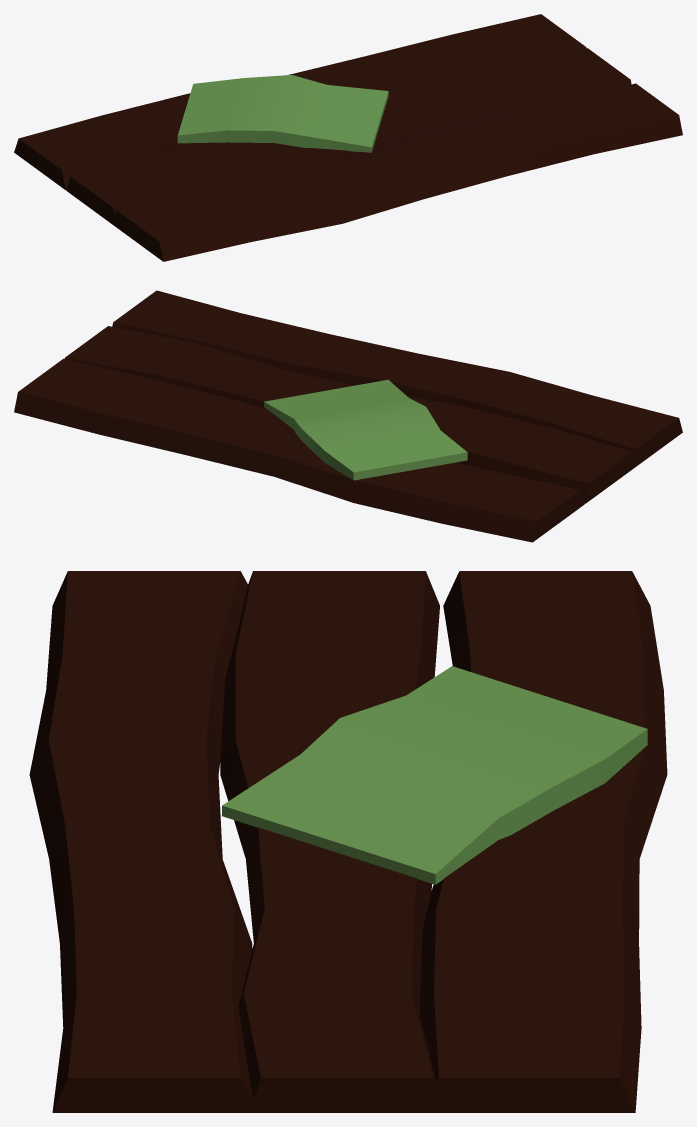
The model's file is SM_PlankBridge.fbx.
3 renders of one model, top to bottom at view 1: azimuth 30°, elevation 25°; view 2: azimuth 150°, elevation 25°; view 3: azimuth 270°, elevation 25°, orthographic. The views are drawn at different scales.
Visible parts, largest first — view 1: polySurface2; view 2: polySurface2; view 3: polySurface2.
Boxes of the visible parts, x1,y1,x2,y2 form: polySurface2: [14, 14, 682, 261]; polySurface2: [14, 290, 682, 542]; polySurface2: [29, 571, 667, 1112].
Bounding box in the file's own units: 24.65 × 1.52 × 13.11.
